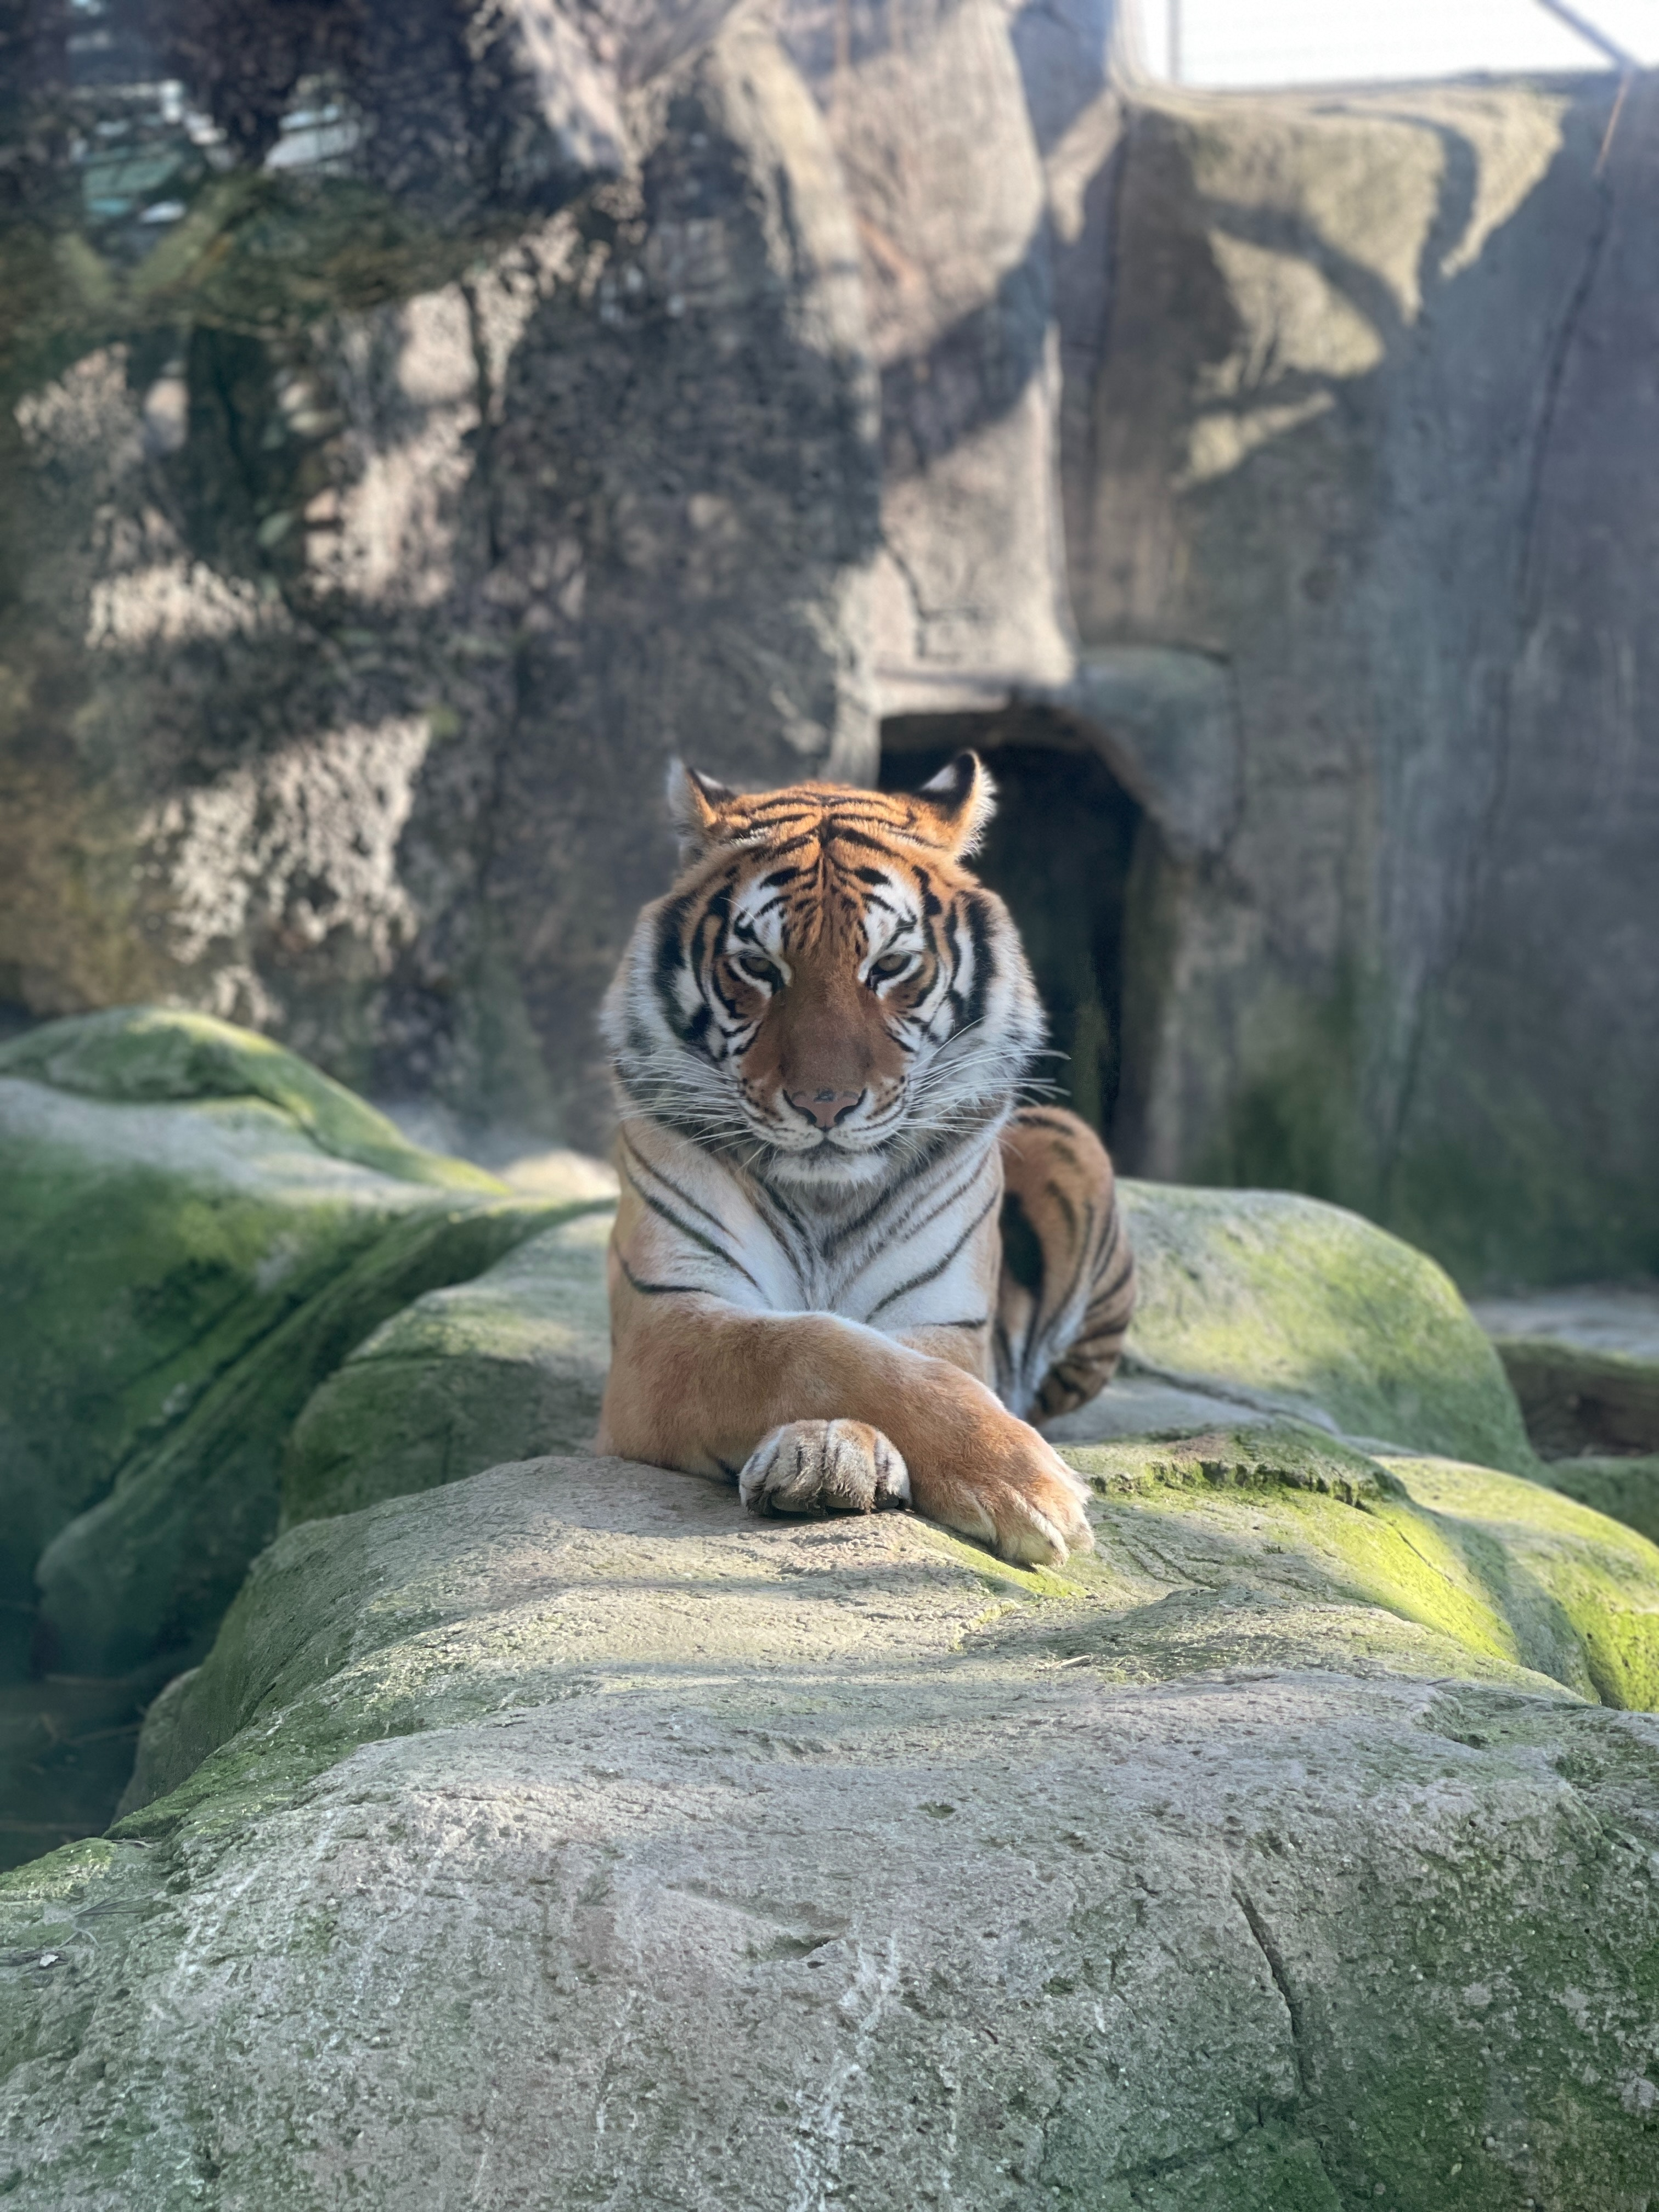tiger: (559, 728, 1183, 1566)
